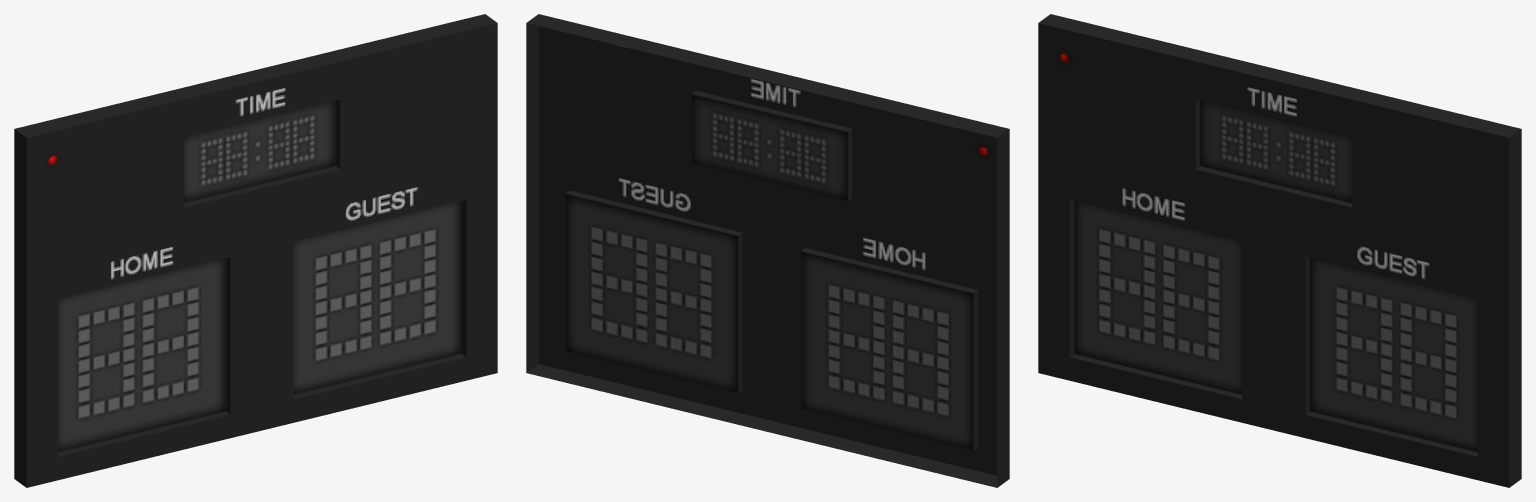
File: placar.glb
3 renders of one model, left to right at view 1: azimuth 30°, elevation 25°; view 2: azimuth 150°, elevation 25°; view 3: azimuth 330°, elevation 25°, orthographic.
Visible parts, largest first — view 1: scorebord_texture_0; view 2: scorebord_texture_0; view 3: scorebord_texture_0.
Boxes of the visible parts, bbox=[...] form: scorebord_texture_0: bbox=[14, 14, 497, 487]; scorebord_texture_0: bbox=[526, 14, 1009, 487]; scorebord_texture_0: bbox=[1038, 14, 1521, 487].
Size of the model in its own units: 7.71 by 5.47 by 0.3508.
1 material, 1 textured.
